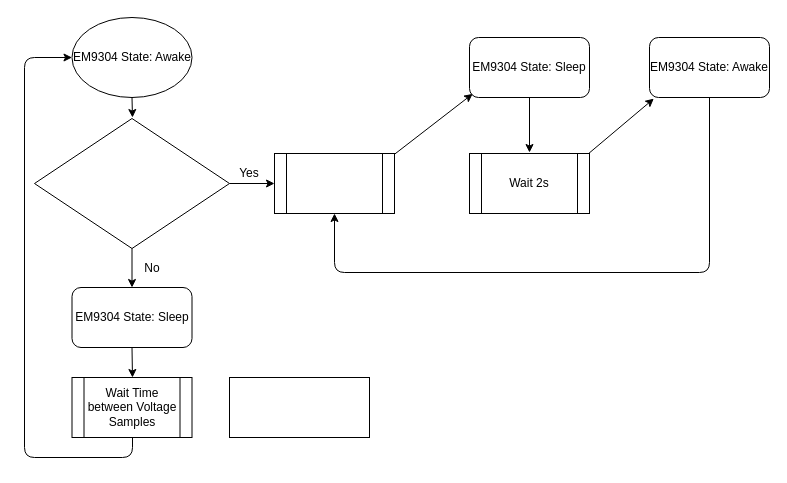
The diagram is 787 pixels wide and 483 high, and some of its shapes have lost their labels. Each missing label, with the centre of its shape:
"ADC Samples Voltage Under Threshold" goes at point (132, 183).
"EM9304 Sends Bluetooth Packet" goes at point (334, 183).
"Stretch Goal: Dynamic Algorithm for Wait Time" goes at point (299, 407).
